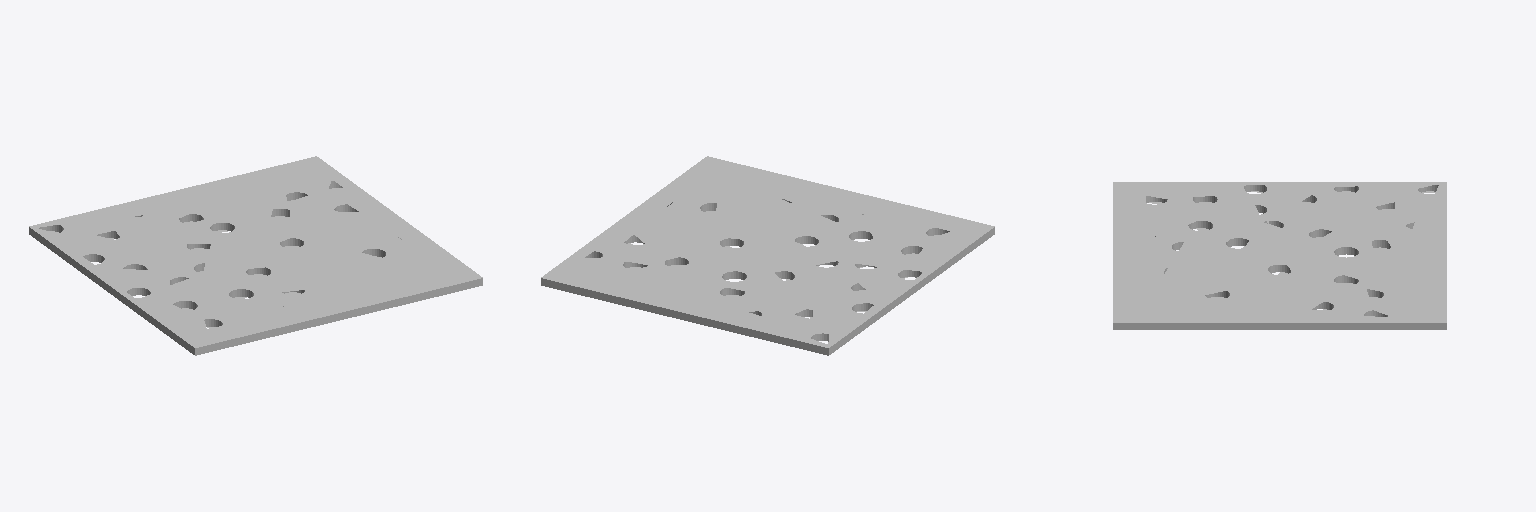
Rendered from stage7.obj.
The picture shows the model from 3 angles: view 1: azimuth 30°, elevation 25°; view 2: azimuth 150°, elevation 25°; view 3: azimuth 270°, elevation 25°; orthographic projection.
Parts seen in each view (by area): view 1: Cube_Cube.002; view 2: Cube_Cube.002; view 3: Cube_Cube.002.
Part boxes in pixels (left/top/right/bottom): Cube_Cube.002: left=29, top=156, right=482, bottom=355; Cube_Cube.002: left=541, top=156, right=994, bottom=355; Cube_Cube.002: left=1113, top=182, right=1446, bottom=329.
Bounding box in the file's own units: 80 × 2 × 80.